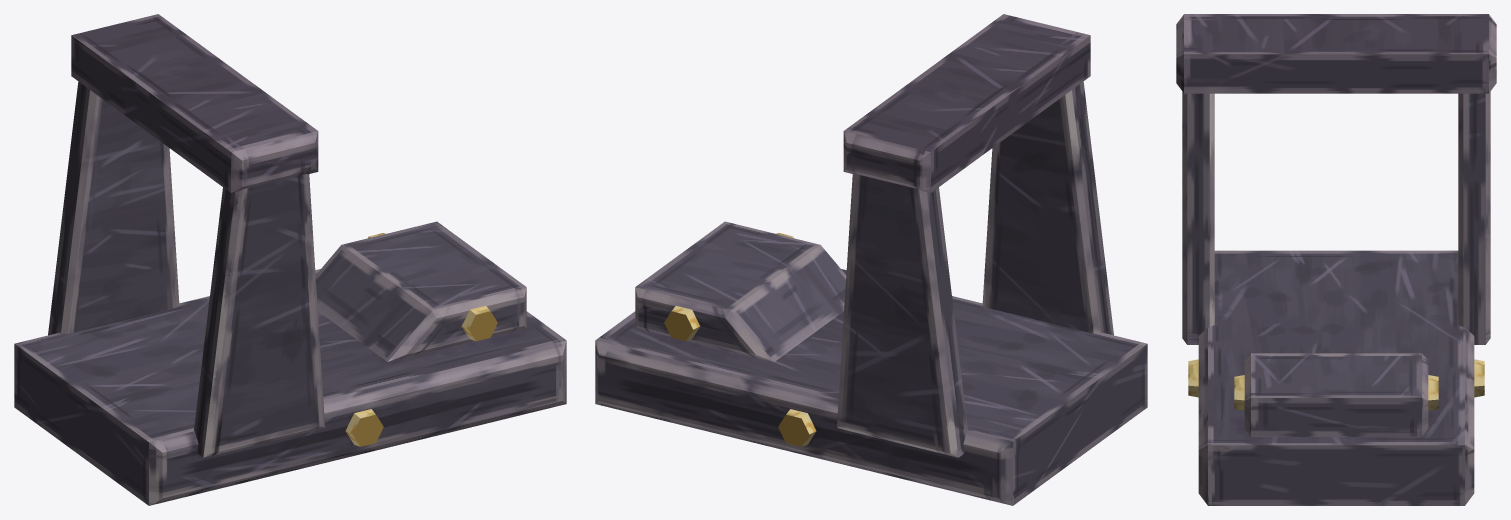
File: att_reddot.fbx
3 views of the same model, side by side, from view 1: azimuth 30°, elevation 25°; view 2: azimuth 150°, elevation 25°; view 3: azimuth 270°, elevation 25° (orthographic). The views are drawn at different scales.
Parts seen in each view (by area): view 1: att_reddot; view 2: att_reddot; view 3: att_reddot.
Boxes of the visible parts, <box> form: att_reddot: <box>14,14,566,505</box>; att_reddot: <box>595,14,1147,505</box>; att_reddot: <box>1176,14,1496,505</box>.
Bounding box in the file's own units: 0.27 × 0.2138 × 0.1879.
1 material, 1 textured.
